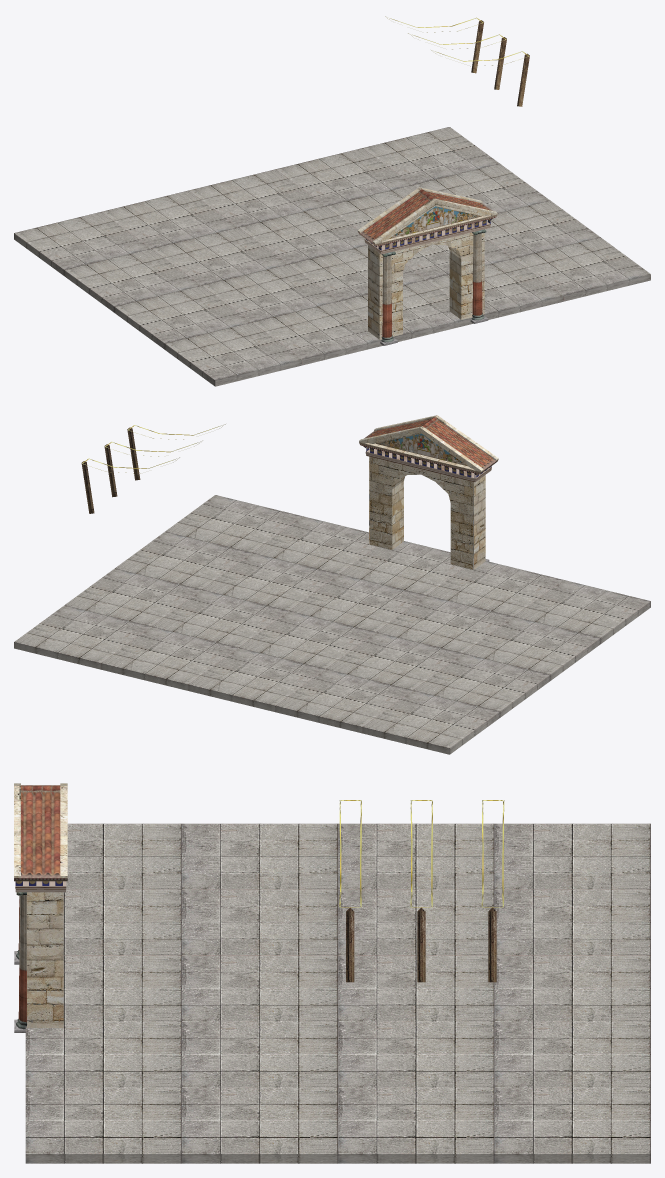
The model's file is rome_market_struct1.dae.
3 renders of one model, top to bottom at view 1: azimuth 30°, elevation 25°; view 2: azimuth 150°, elevation 25°; view 3: azimuth 270°, elevation 25°, orthographic. The views are drawn at different scales.
Parts seen in each view (by area): view 1: rome_market_struct1; view 2: rome_market_struct1; view 3: rome_market_struct1.
Part boxes in pixels (x1,y1,x2,y2): rome_market_struct1: [14, 16, 650, 386]; rome_market_struct1: [14, 415, 650, 754]; rome_market_struct1: [14, 783, 650, 1163].
Bounding box in the file's own units: 31.33 × 25.53 × 12.44.
